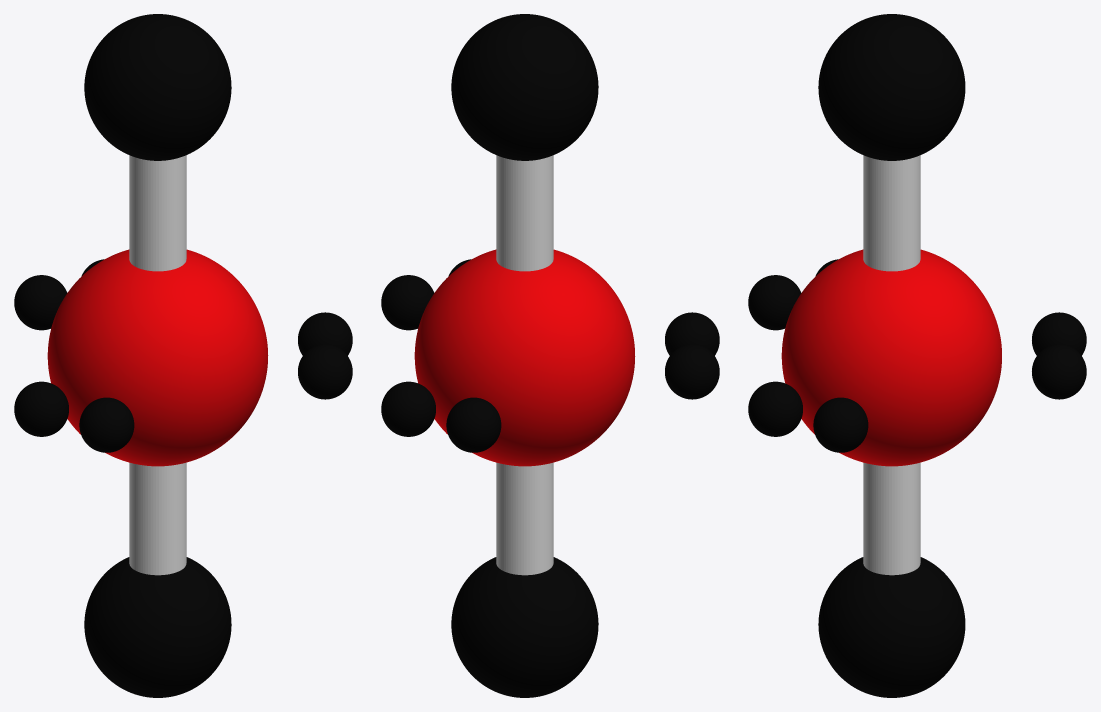
The model's file is linear5.glb.
3 renders of one model, left to right at view 1: azimuth 30°, elevation 25°; view 2: azimuth 150°, elevation 25°; view 3: azimuth 270°, elevation 25°, orthographic.
Visible parts, largest first — view 1: Sphere, Sphere.002, Sphere.004, Sphere.001, Sphere.003, Sphere.005; view 2: Sphere, Sphere.002, Sphere.004, Sphere.005, Sphere.001, Sphere.003; view 3: Sphere, Sphere.002, Sphere.004, Sphere.003, Sphere.005, Sphere.001.
Part boxes in pixels (<box>): Sphere: <box>47,249,268,466</box>; Sphere.002: <box>84,14,231,271</box>; Sphere.004: <box>84,462,231,697</box>; Sphere.001: <box>14,381,134,452</box>; Sphere.003: <box>298,312,352,399</box>; Sphere.005: <box>14,259,104,330</box>; Sphere: <box>414,249,635,466</box>; Sphere.002: <box>451,14,598,271</box>; Sphere.004: <box>451,462,598,697</box>; Sphere.005: <box>381,381,501,452</box>; Sphere.001: <box>665,312,719,399</box>; Sphere.003: <box>381,259,471,330</box>; Sphere: <box>781,249,1001,466</box>; Sphere.002: <box>818,14,965,271</box>; Sphere.004: <box>818,462,965,697</box>; Sphere.003: <box>748,381,868,452</box>; Sphere.005: <box>1032,312,1086,399</box>; Sphere.001: <box>748,259,838,330</box>.
Size of the model in its own units: 5.16 by 9.98 by 4.57.
